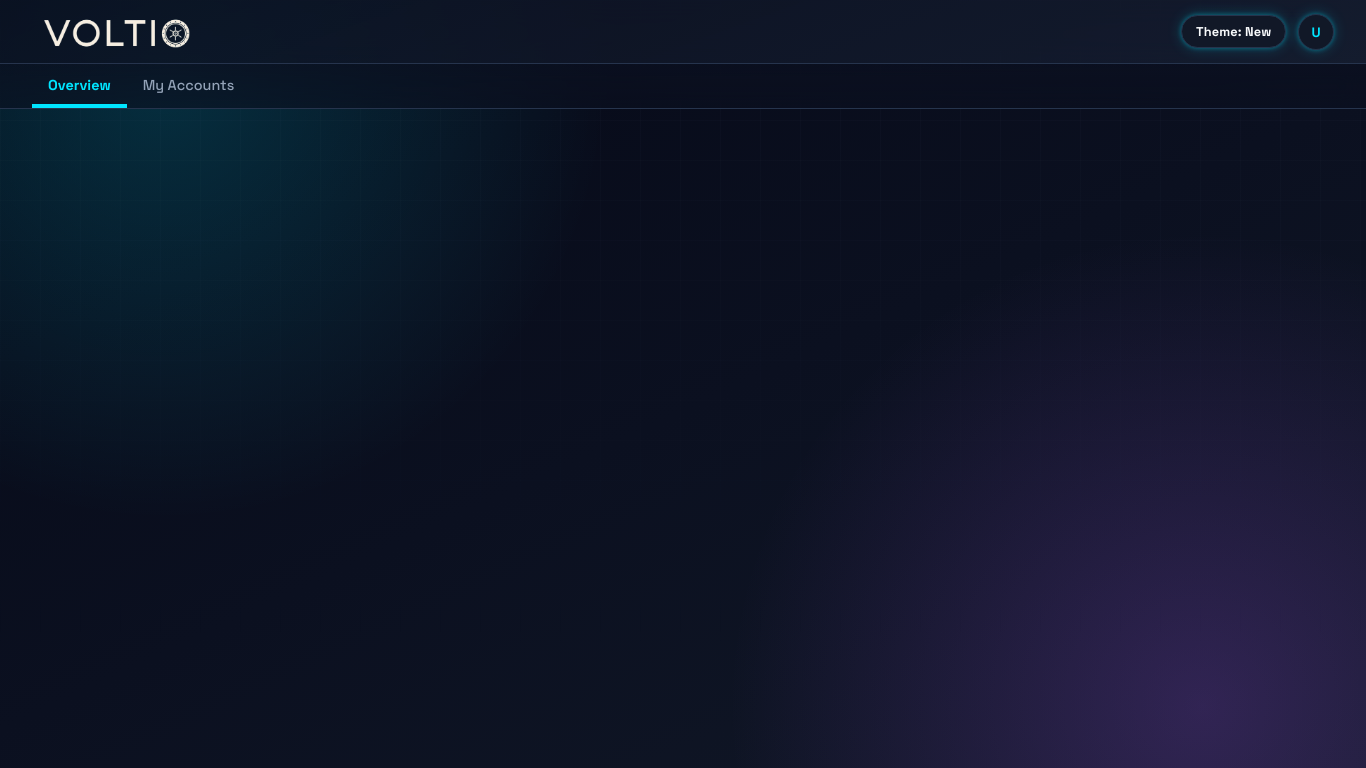
Test: Navbar and Sub-Navbar (AppLayout) › profile dropdown › opens the dropdown when the avatar button is clicked
The width and height of the screenshot is (1366, 768).
expect the button "Profile" is not shown: met
Step 1. Click the button named "open profile menu" → (1316, 32), box [1298,14,1334,50]
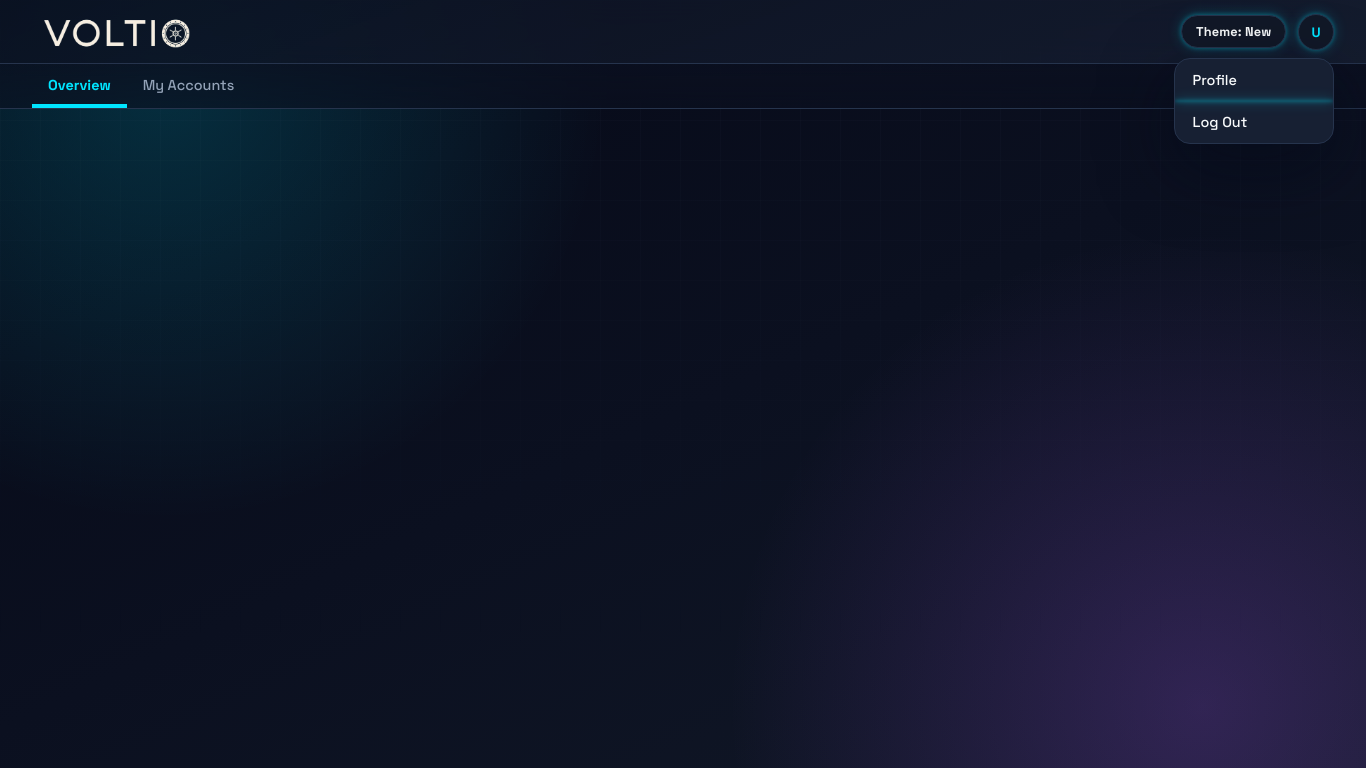
expect the button "Profile" is shown: met, box [1175,58,1333,100]
expect the button "Log Out" is shown: met, box [1175,100,1333,142]
